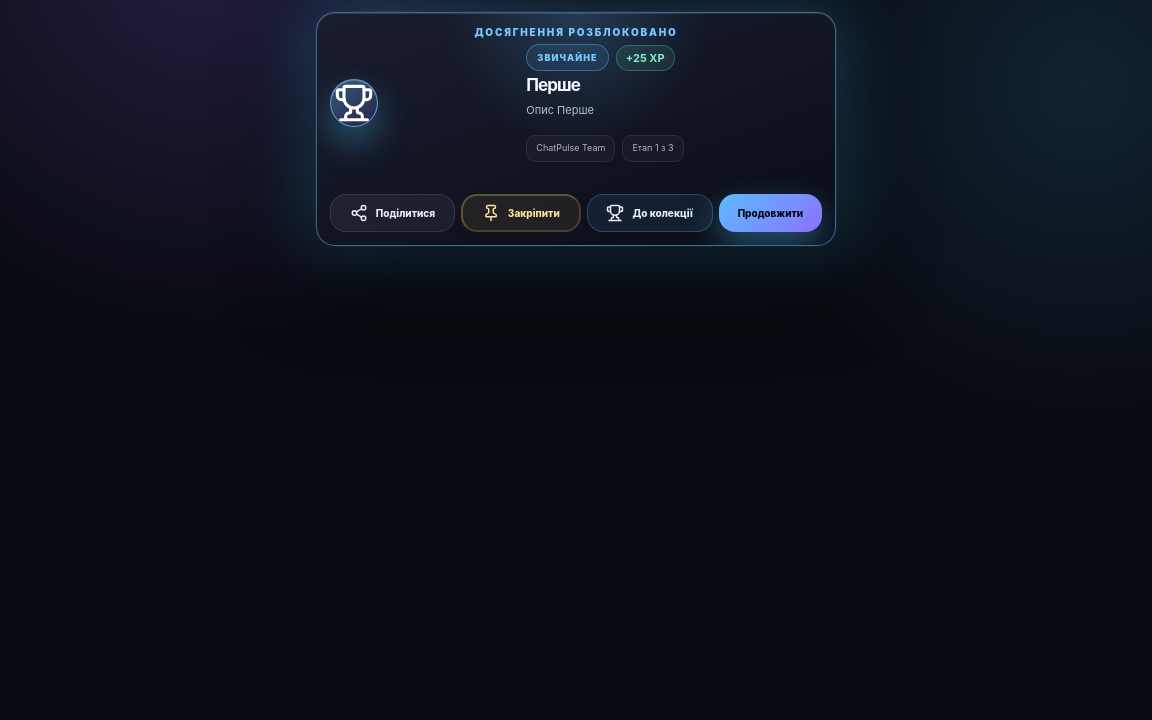
Scenario: AchievementCelebrationLayer › shows at most three individual celebrations before an overflow summary
Expected: the heading "Перше" is shown, [526,75,580,95]
Click the button "Продовжити" at (770, 213), box [719,194,822,232]
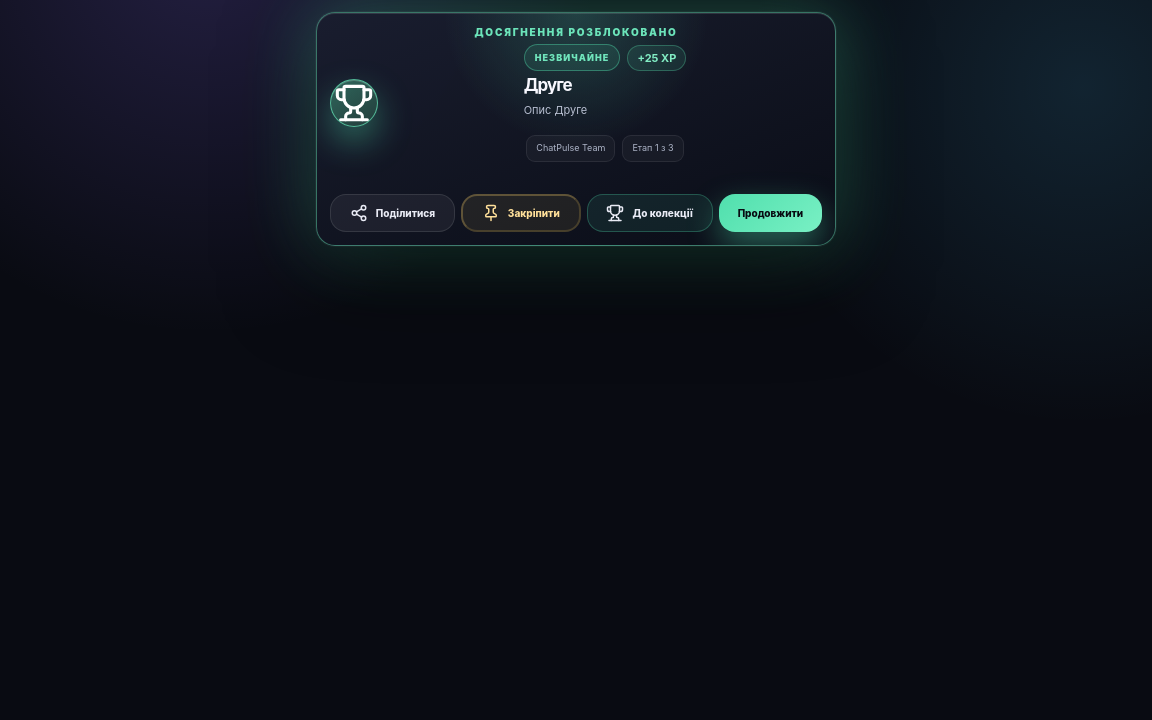
Expected: the heading "Друге" is shown, [524,75,572,95]
Click the button "Продовжити" at (770, 213), box [719,194,822,232]
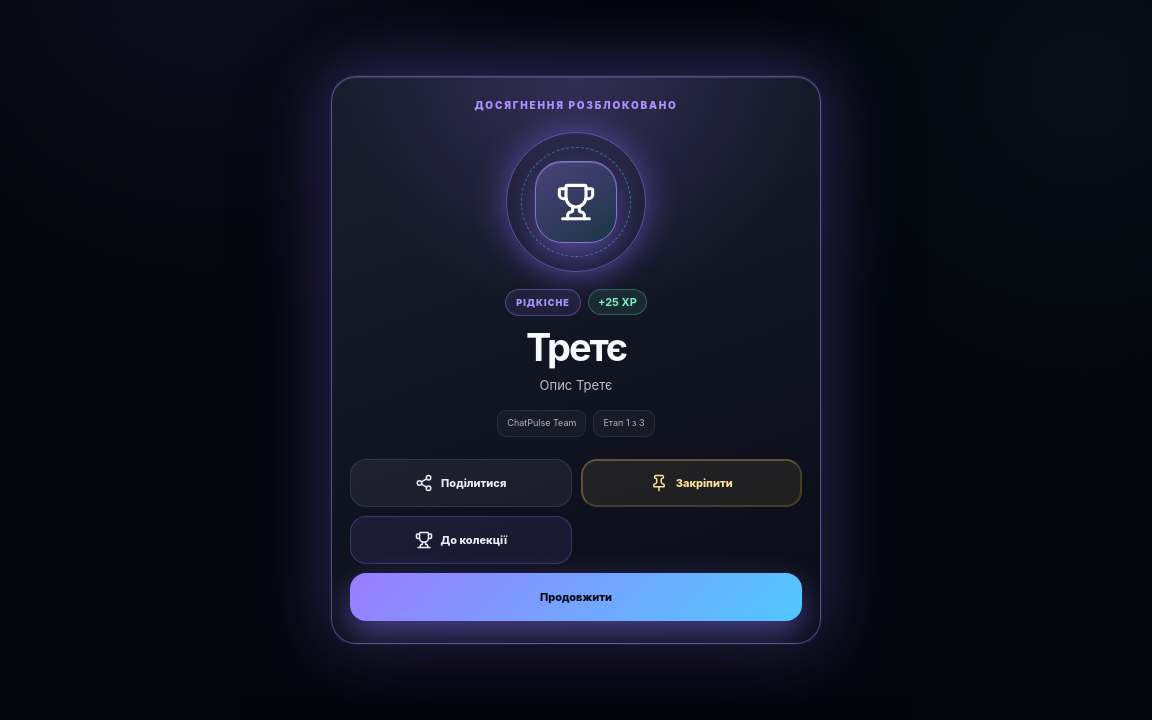
Expected: the heading "Третє" is shown, [526,324,626,370]
Click the button "Продовжити" at (576, 597), box [350,573,802,621]
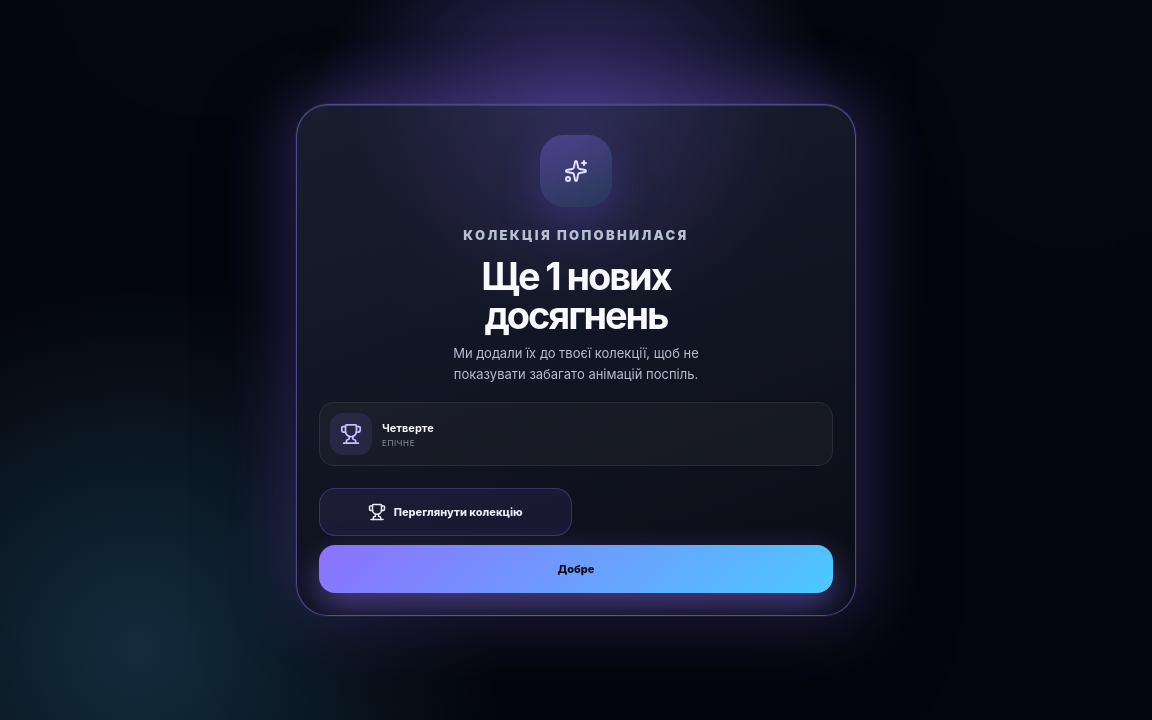
Expected: the heading "Ще 1 нових досягнень" is shown, [481,254,671,338]
Expected: the text "Четверте" is shown, [382,420,434,434]
